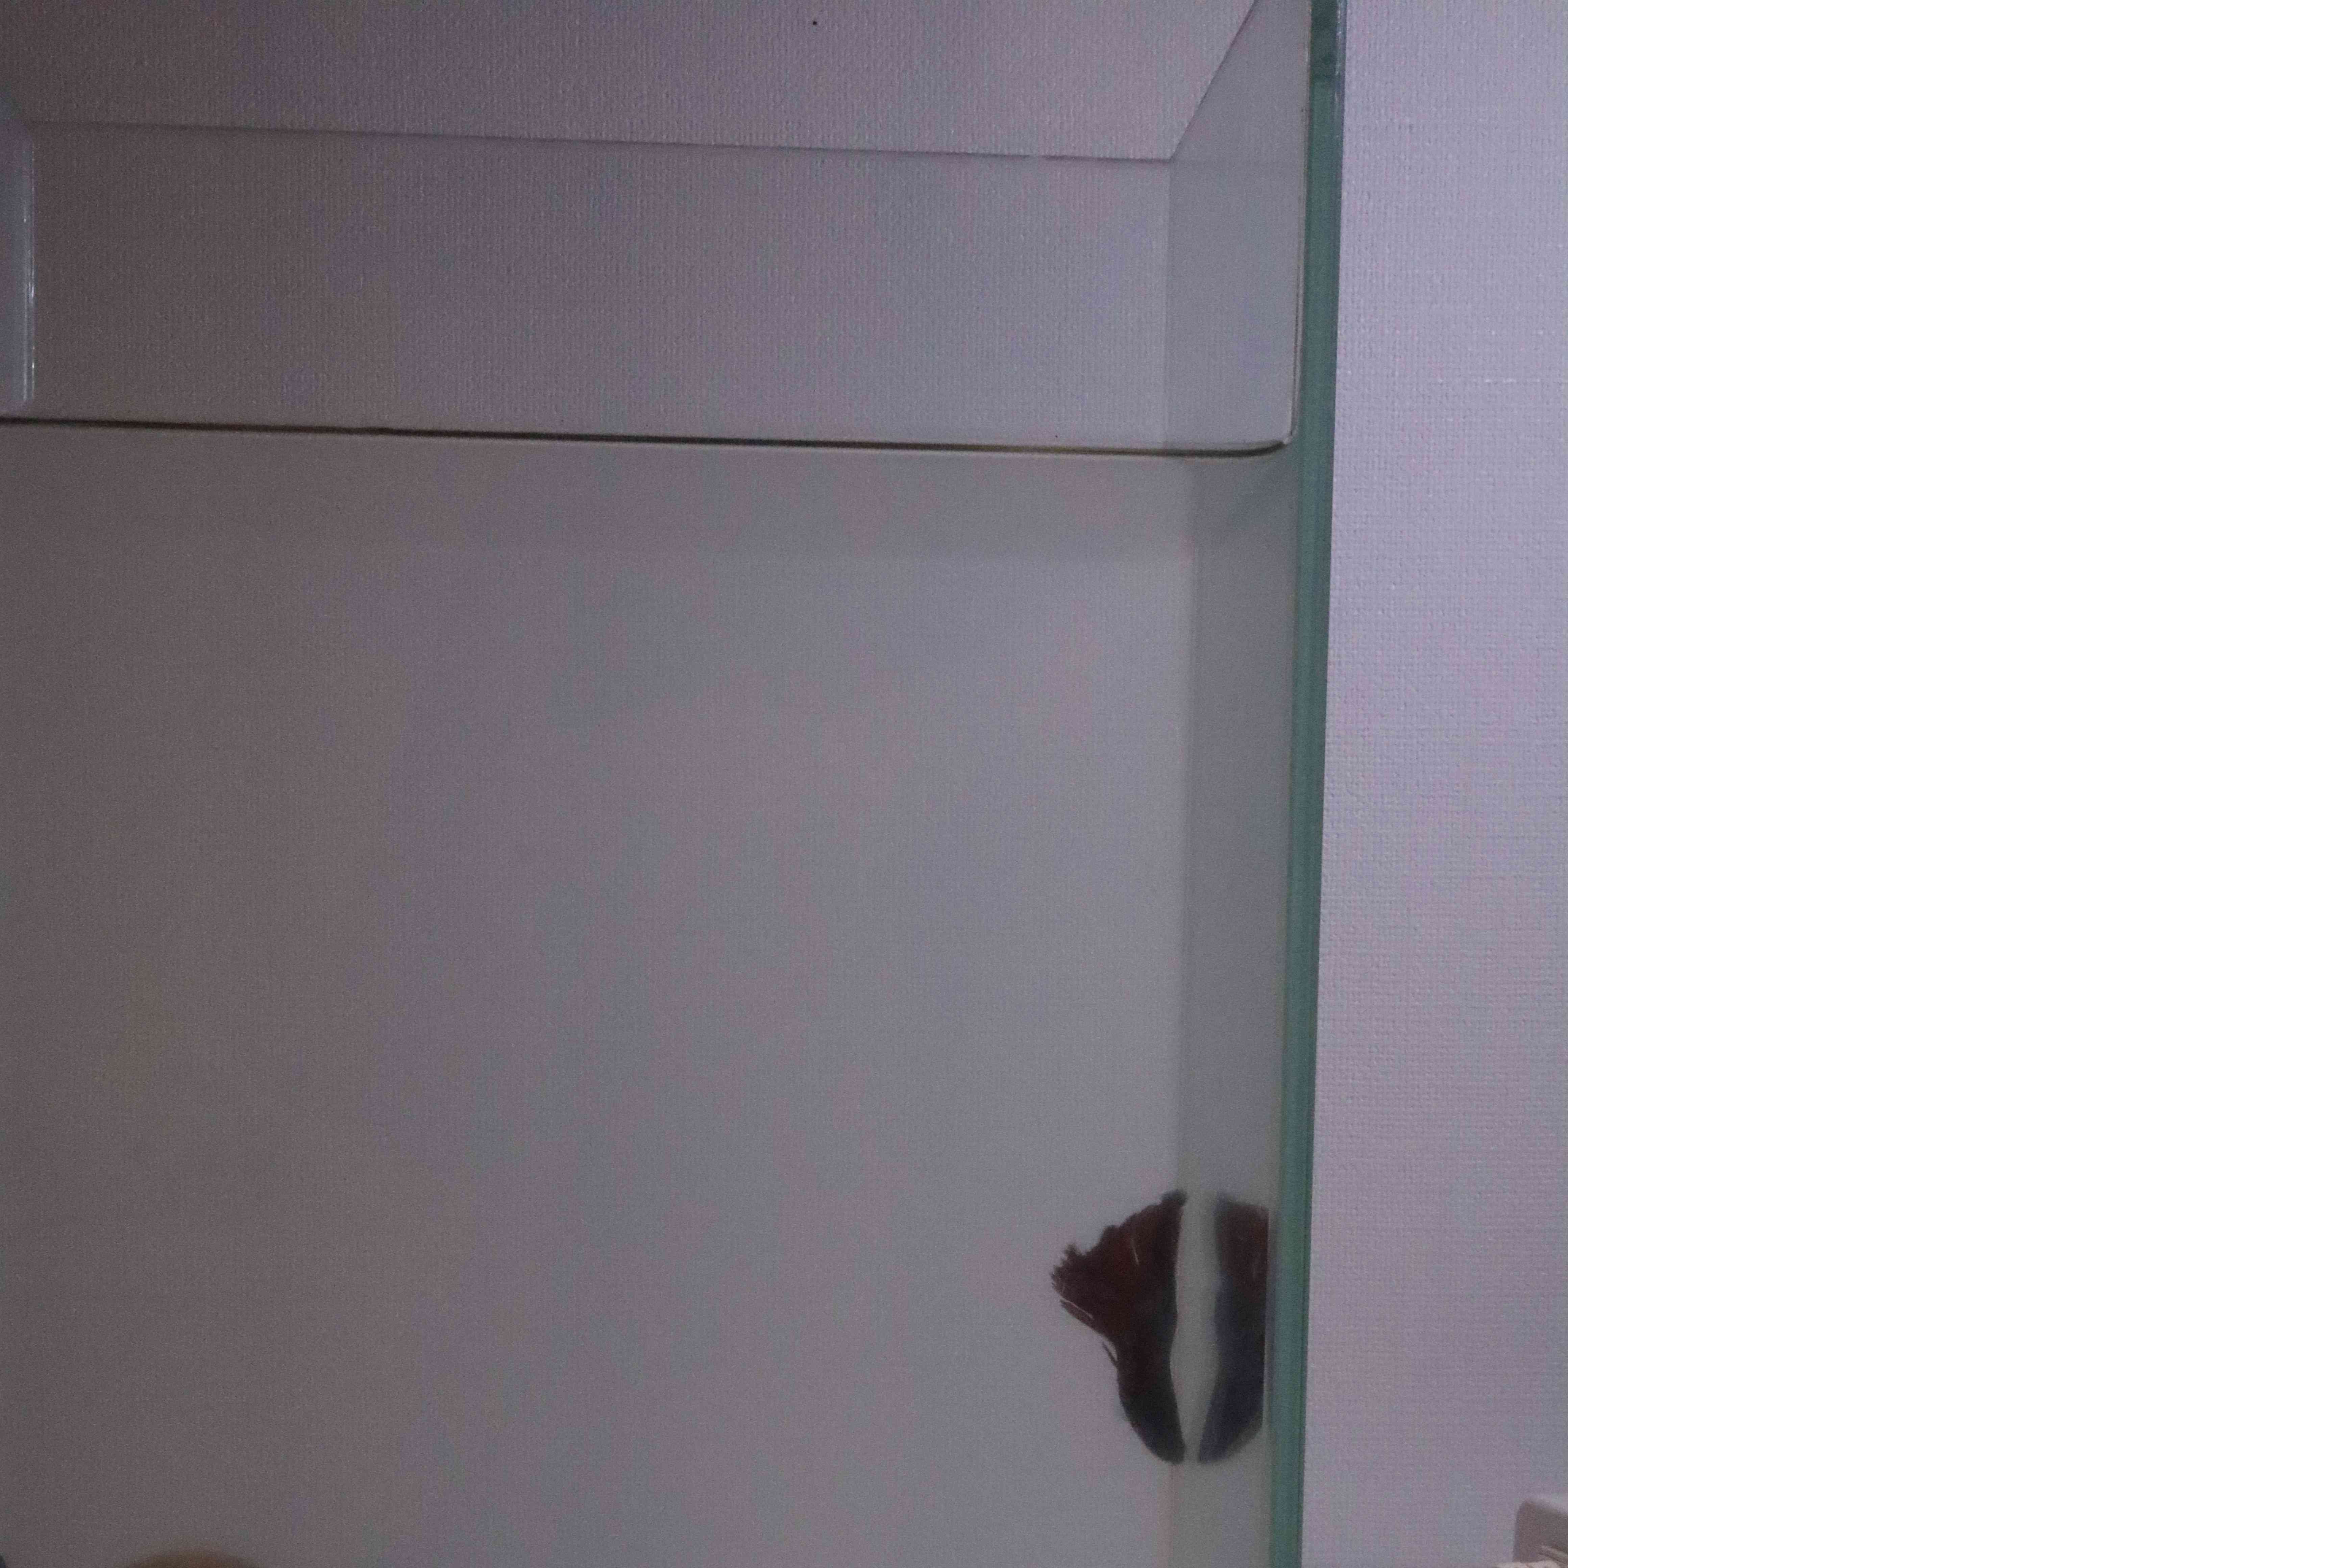fish: (1038, 1188, 1206, 1461)
